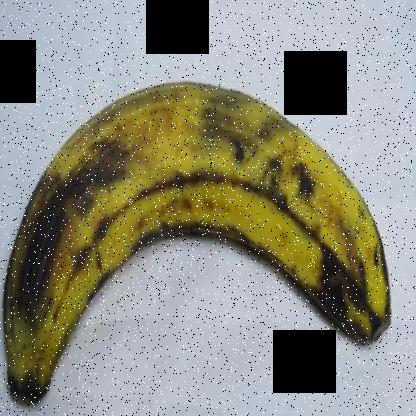overripe: (1, 63, 404, 414)
